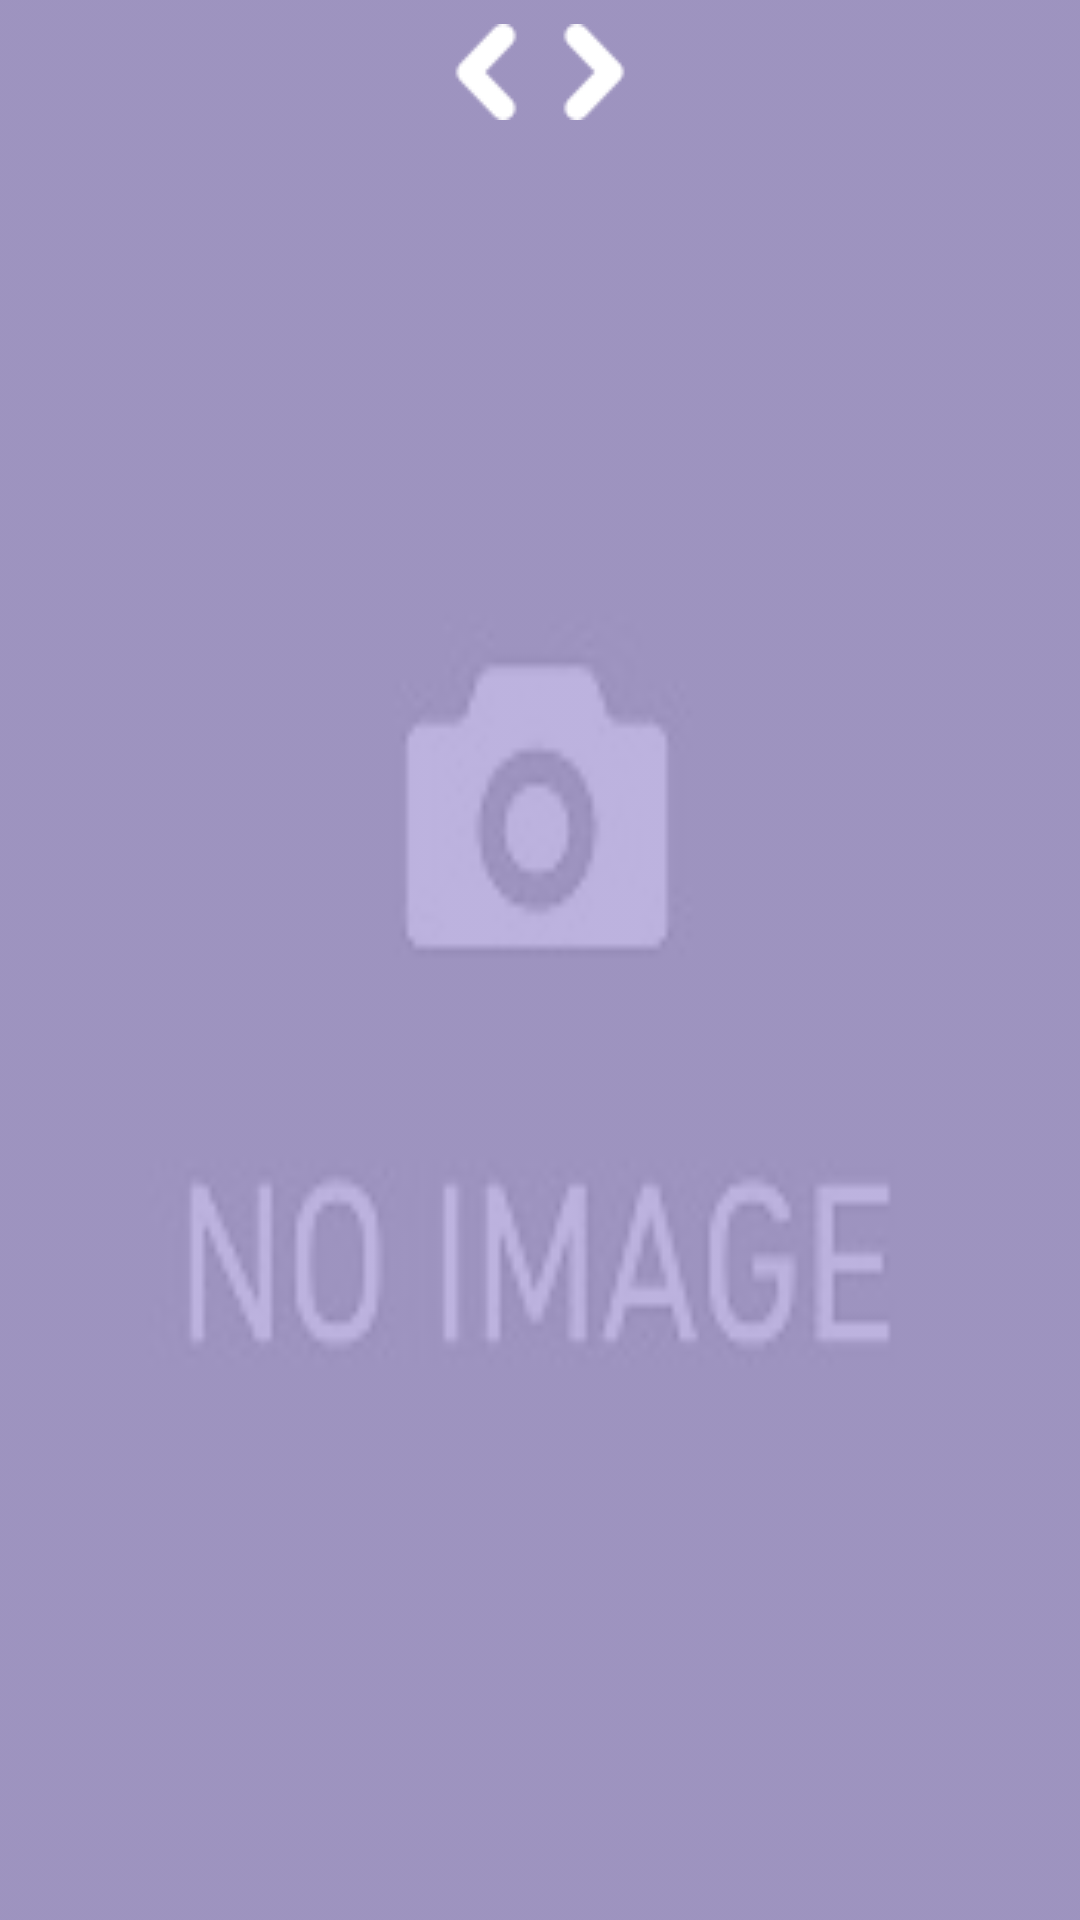

Named icons in this screenshot (1080x1920) and their bounding boxes, (x1, y1, x2, y2):
next: (564, 24, 624, 120)
prev: (456, 24, 516, 120)
